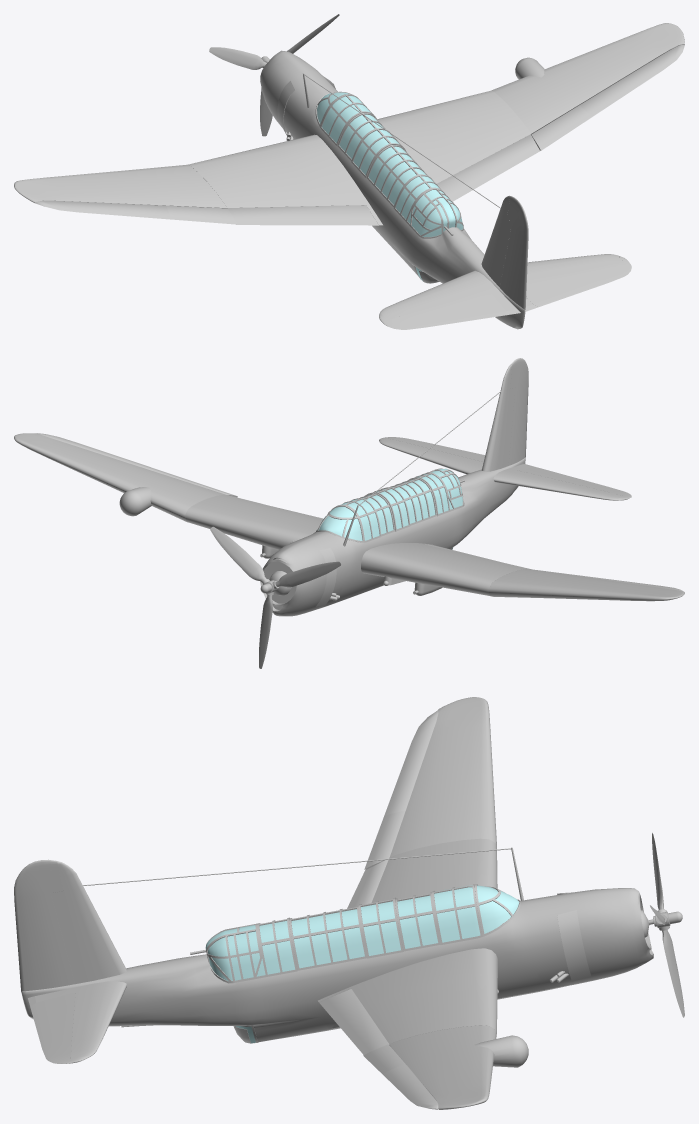
Rendered from TBY_Sea_Wolf_1_flight.FBX.
3 views of the same model, one above another, from view 1: azimuth 30°, elevation 25°; view 2: azimuth 150°, elevation 25°; view 3: azimuth 270°, elevation 25° (orthographic). The views are drawn at different scales.
Parts seen in each view (by area): view 1: TBY Sea Wolf, Object046, glass, Box004, Object005, Object008, Object047, Object050, Object009, Object049, Object007, Object001 (+2 smaller); view 2: TBY Sea Wolf, Object046, glass, Box004, Object001, Object009, Object008, Object050, Object049; view 3: TBY Sea Wolf, glass, Box004, Object046, Object009, Object050, Object047, Object007, Object001, Object049, Object006, Object005 (+1 smaller).
Boxes of the visible parts, x1,y1,x2,y2 form: TBY Sea Wolf: (188,50,623,329); Object046: (491,23,684,134); glass: (317,92,463,280); Box004: (14,164,226,208); Object005: (227,205,378,225); Object008: (379,291,505,329); Object047: (437,134,540,201); Object050: (526,255,631,306); Object009: (499,196,528,309); Object049: (579,44,684,116); Object007: (35,200,171,219); Object001: (209,14,339,136); TBY Sea Wolf: (185,364,623,616); Object046: (14,433,225,521); glass: (317,468,462,549); Box004: (488,569,684,601); Object001: (210,526,340,668); Object009: (508,358,528,465); Object008: (518,467,631,500); Object050: (379,437,485,461); Object049: (37,433,169,475); TBY Sea Wolf: (21,838,653,1058); glass: (205,885,519,1043); Box004: (389,697,496,857); Object046: (390,1025,528,1109); Object009: (14,859,74,991); Object050: (30,992,88,1063); Object047: (319,989,391,1054); Object007: (384,710,438,816); Object001: (648,833,684,1017); Object049: (383,1064,438,1109); Object006: (364,810,405,869); Object005: (347,858,388,908).
Size of the model in its own units: 17.46 by 3.59 by 12.13.
